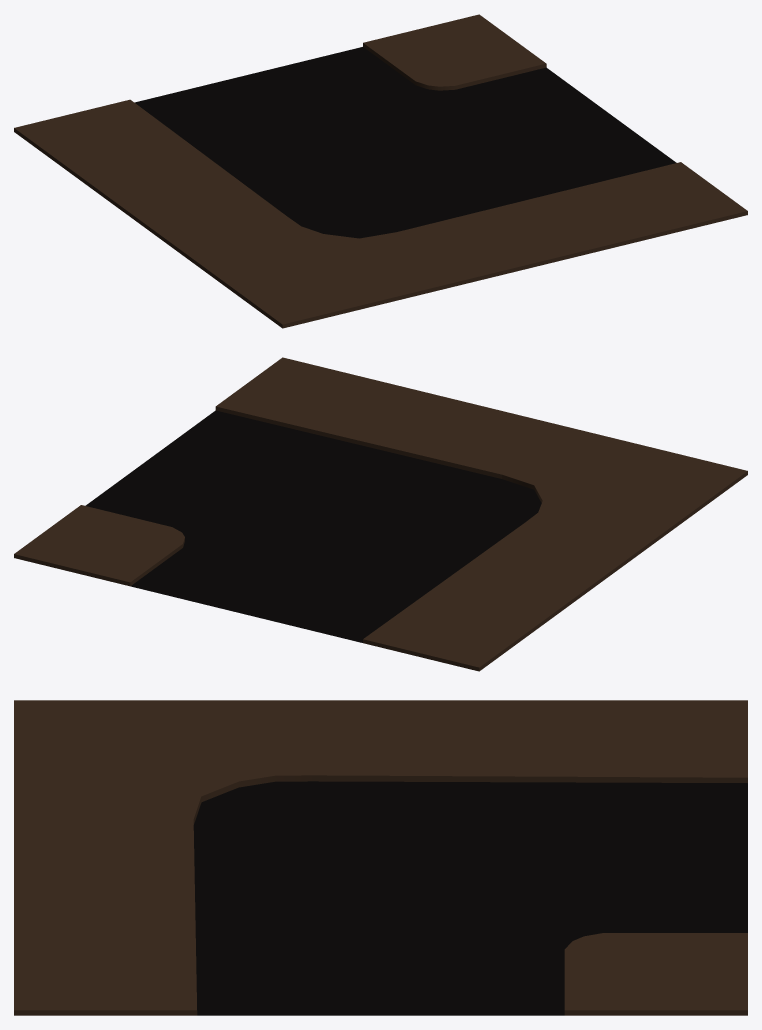
Rendered from 90_degree_turn_tile.FBX.
3 renders of one model, top to bottom at view 1: azimuth 30°, elevation 25°; view 2: azimuth 150°, elevation 25°; view 3: azimuth 270°, elevation 25°, orthographic. The views are drawn at different scales.
Parts seen in each view (by area): view 1: Crossroad_90-turn_01; view 2: Crossroad_90-turn_01; view 3: Crossroad_90-turn_01.
Part boxes in pixels (x1,y1,x2,y2): Crossroad_90-turn_01: [14, 14, 747, 328]; Crossroad_90-turn_01: [14, 357, 747, 671]; Crossroad_90-turn_01: [14, 700, 747, 1015].
Bounding box in the file's own units: 1900 × 1900 × 18.72.
